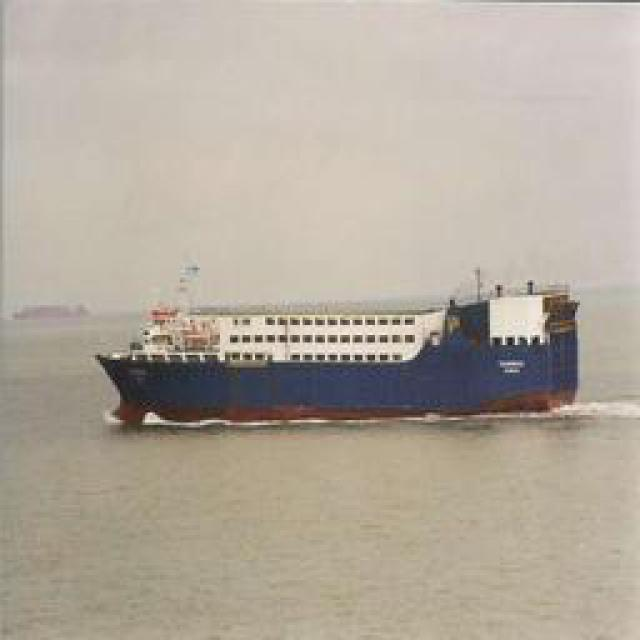Ship: (109, 298, 589, 423)
